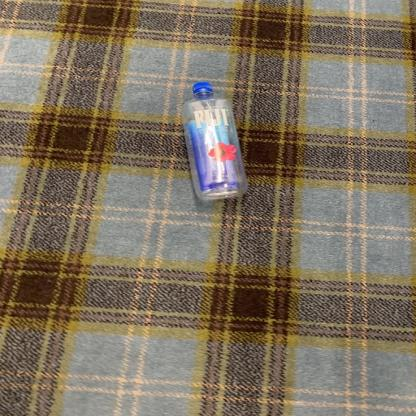trash: (178, 82, 251, 202)
